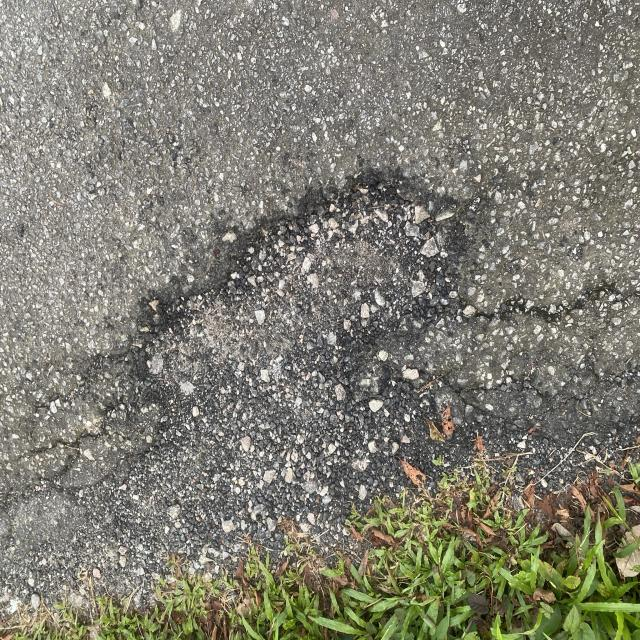Pothole: (84, 135, 512, 421)
